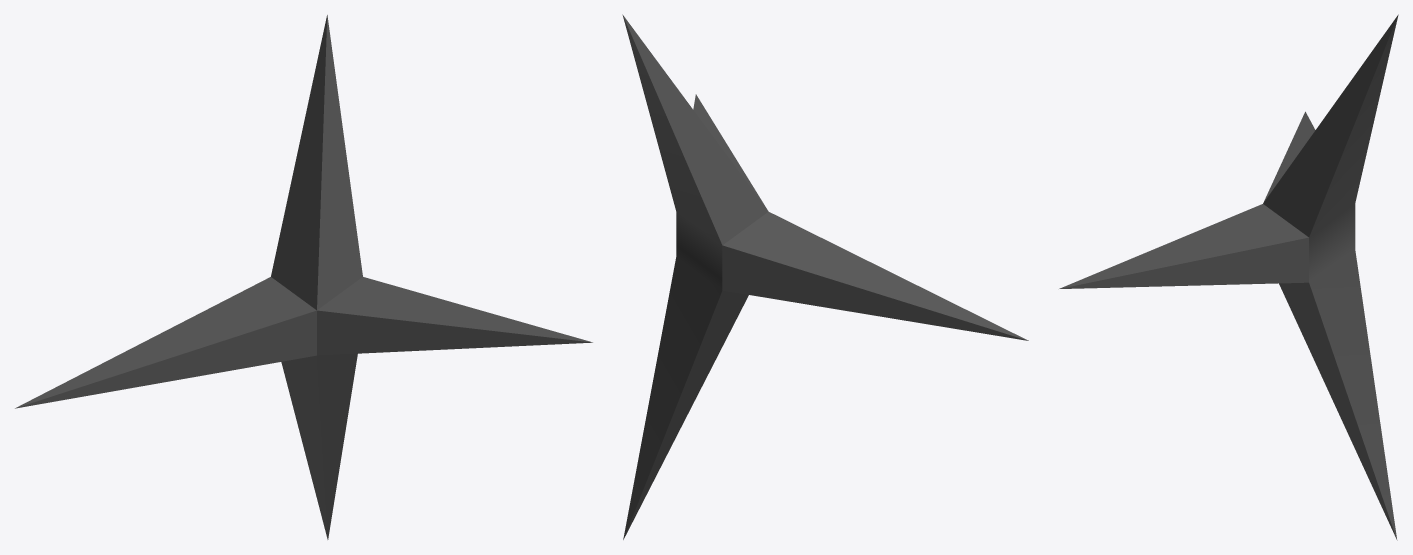
Rendered from MakibishiItem.fbx.
3 views of the same model, side by side, from view 1: azimuth 30°, elevation 25°; view 2: azimuth 150°, elevation 25°; view 3: azimuth 270°, elevation 25° (orthographic).
Parts seen in each view (by area): view 1: Makibishi; view 2: Makibishi; view 3: Makibishi.
Boxes of the visible parts, x1,y1,x2,y2 form: Makibishi: [15, 15, 592, 539]; Makibishi: [622, 14, 1028, 539]; Makibishi: [1059, 14, 1398, 540].
Bounding box in the file's own units: 5.72 × 6.3 × 3.69.
Materials: 1 (1 with a texture image).
